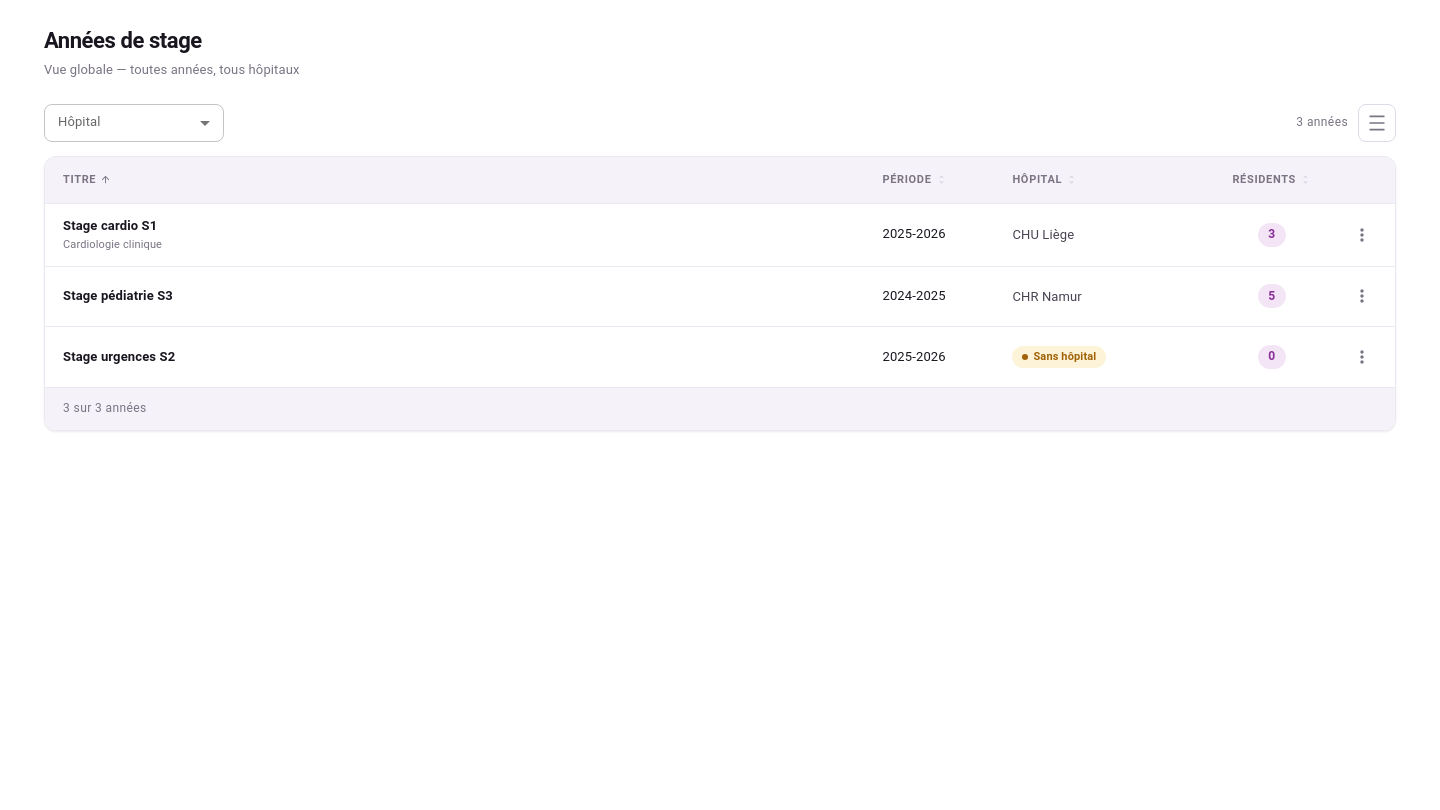
Test: AdminYearsPage › 'Changer l\'hôpital' ouvre le dialog avec le titre de l'année
Expected: the text "Stage cardio S1" is shown, [63,218,157,232]
Click the button with test id "MoreVertIcon": (1362, 235) [1347,220,1377,250]
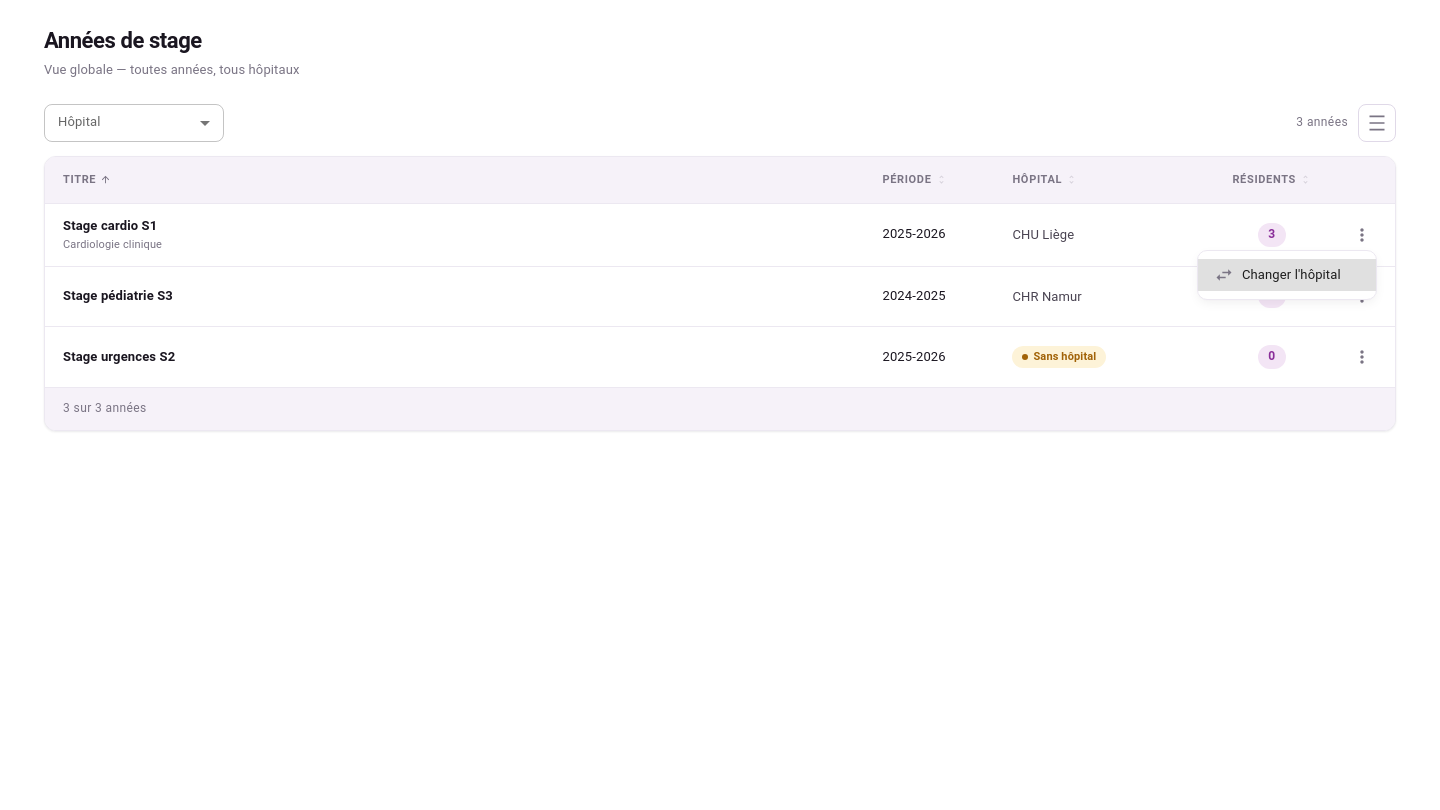
Result: the menu item "Changer l'hôpital" is shown
Click the menu item "Changer l'hôpital": (1287, 275) [1198,259,1376,291]
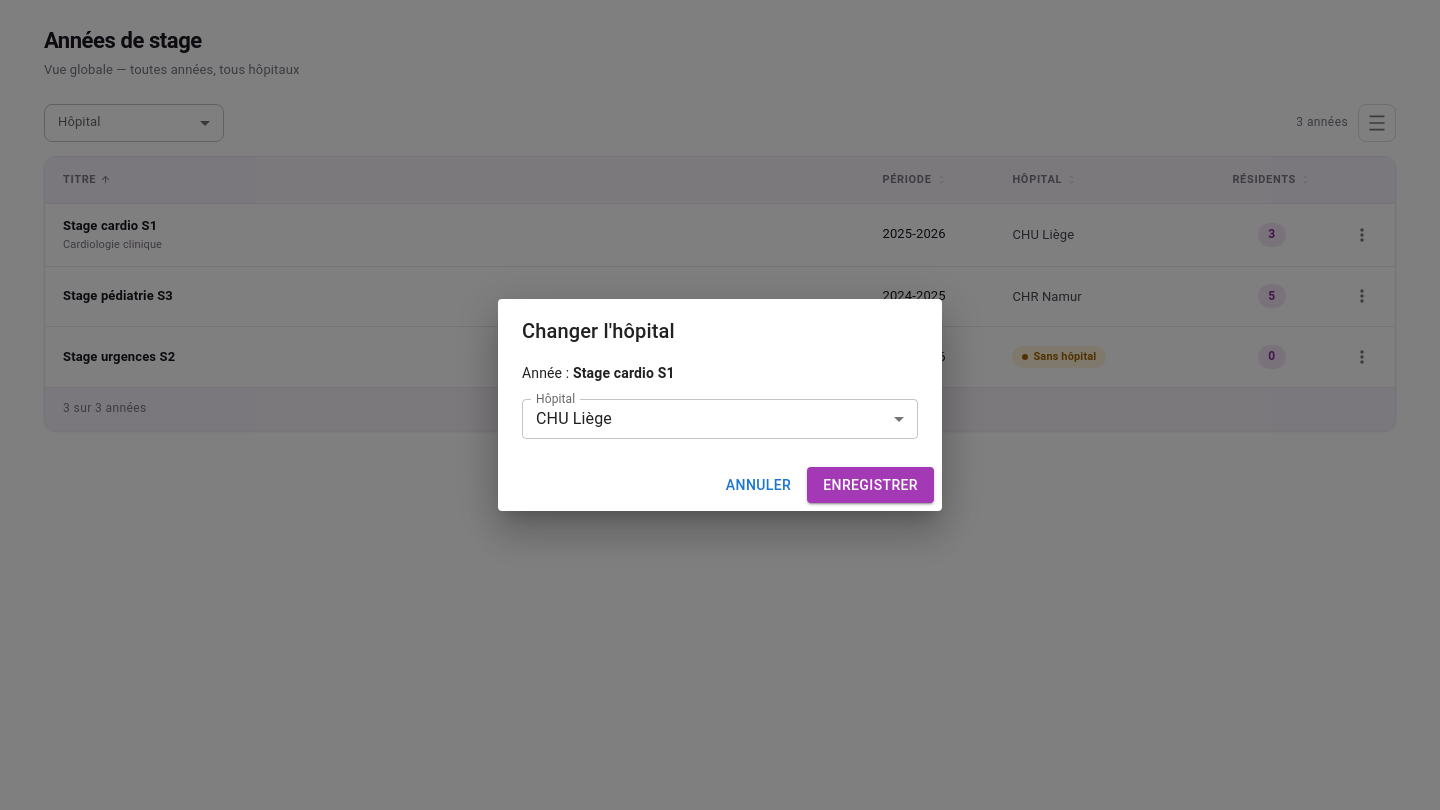
Result: the dialog is shown at [498,299,942,511]
Result: the text "Stage cardio S1" is shown at [573,365,675,381]
